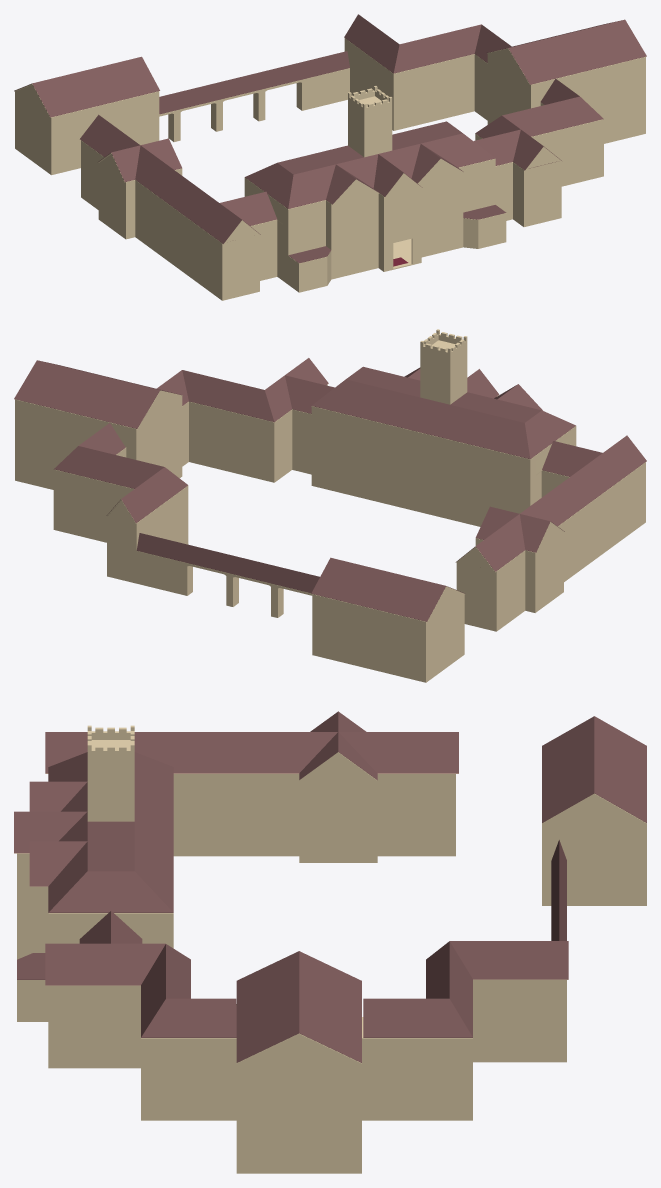
Rendered from academy.glb.
3 renders of one model, top to bottom at view 1: azimuth 30°, elevation 25°; view 2: azimuth 150°, elevation 25°; view 3: azimuth 270°, elevation 25°, orthographic. The views are drawn at different scales.
Parts seen in each view (by area): view 1: building, roof; view 2: building, roof; view 3: building, roof.
Boxes of the visible parts, left/top/right/bottom form: building: left=14, top=38, right=645, bottom=300; roof: left=14, top=14, right=646, bottom=263; building: left=15, top=329, right=645, bottom=682; roof: left=14, top=358, right=646, bottom=621; building: left=14, top=725, right=646, bottom=1173; roof: left=14, top=711, right=646, bottom=1062.
Size of the model in its own units: 53.1 by 15.05 by 40.4.
